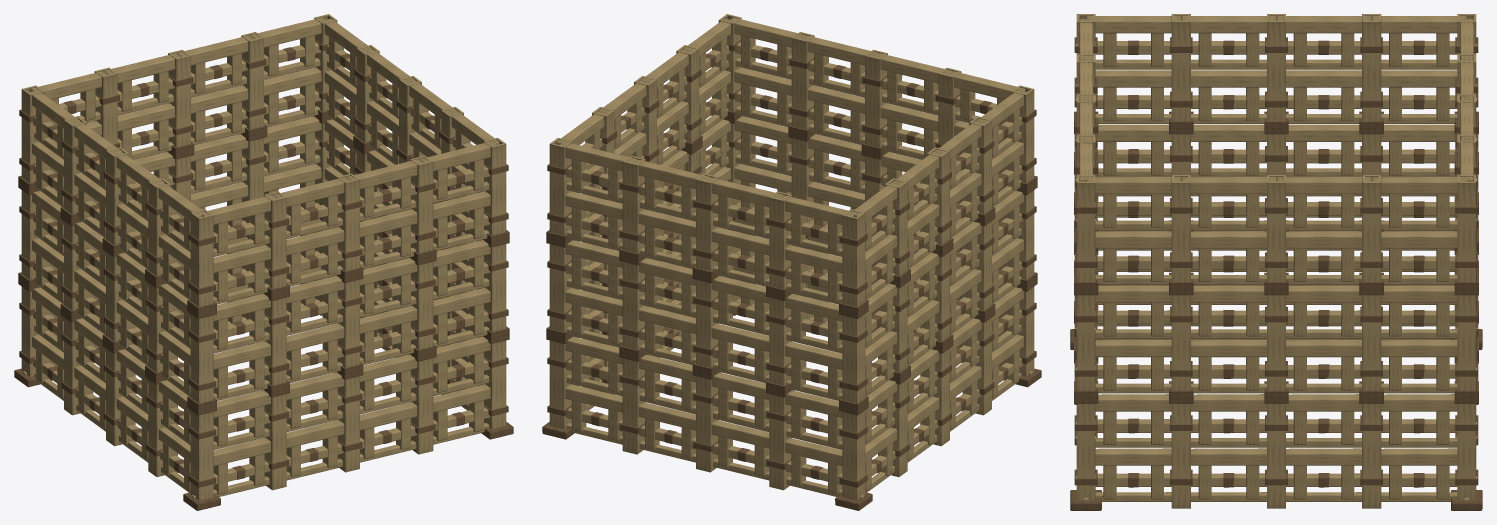
The picture shows the model from 3 angles, left to right: view 1: azimuth 30°, elevation 25°; view 2: azimuth 150°, elevation 25°; view 3: azimuth 270°, elevation 25°; orthographic projection. The views are drawn at different scales.
Visible parts, largest first — view 1: Tier 2 side 0 post 0, Tier 0 side 0 post 0, Tier 1 side 0 post 0, Tier 0 side 0 post 3, Tier 2 side 0 post 3, Tier 2 side 1 post 0, Tier 0 side 0 post 1, Tier 2 side 0 post 1, Tier 0 side 0 post 2, Tier 2 side 0 post 2, Tier 2 side 2 post 2, Tier 2 side 2 post 1 (+74 smaller); view 2: Tier 2 side 3 post 0, Tier 0 side 3 post 0, Tier 1 side 3 post 0, Tier 0 side 2 post 1, Tier 2 side 2 post 1, Tier 2 side 0 post 3, Tier 2 side 2 post 0, Tier 0 side 2 post 3, Tier 2 side 2 post 3, Tier 0 side 2 post 2, Tier 2 side 2 post 2, Tier 2 side 0 post 2 (+73 smaller); view 3: Tier 0 side 1 post 1, Tier 0 side 1 post 3, Tier 2 side 3 post 1, Tier 2 side 3 post 3, Tier 2 side 1 post 1, Tier 2 side 1 post 3, Tier 2 side 1 post 0, Tier 2 side 2 post 0, Tier 0 side 1 post 2, Tier 2 side 1 post 2, Tier 2 side 3 post 2, Tier 0 side 1 post 0 (+179 smaller).
Boxes of the visible parts, bbox=[...] form: Tier 2 side 0 post 0: bbox=[190, 209, 213, 306]; Tier 0 side 0 post 0: bbox=[190, 410, 213, 500]; Tier 1 side 0 post 0: bbox=[190, 314, 213, 403]; Tier 0 side 0 post 3: bbox=[410, 358, 433, 454]; Tier 2 side 0 post 3: bbox=[410, 155, 433, 253]; Tier 2 side 1 post 0: bbox=[483, 138, 506, 235]; Tier 0 side 0 post 1: bbox=[264, 394, 286, 490]; Tier 2 side 0 post 1: bbox=[264, 191, 286, 288]; Tier 0 side 0 post 2: bbox=[337, 376, 359, 472]; Tier 2 side 0 post 2: bbox=[337, 173, 359, 271]; Tier 2 side 2 post 2: bbox=[168, 49, 190, 147]; Tier 2 side 2 post 1: bbox=[241, 32, 263, 129]; Tier 2 side 3 post 0: bbox=[842, 209, 865, 306]; Tier 0 side 3 post 0: bbox=[842, 410, 865, 500]; Tier 1 side 3 post 0: bbox=[842, 314, 865, 403]; Tier 0 side 2 post 1: bbox=[622, 358, 645, 454]; Tier 2 side 2 post 1: bbox=[622, 155, 645, 253]; Tier 2 side 0 post 3: bbox=[791, 32, 814, 129]; Tier 2 side 2 post 0: bbox=[549, 138, 572, 235]; Tier 0 side 2 post 3: bbox=[769, 394, 791, 490]; Tier 2 side 2 post 3: bbox=[769, 191, 791, 288]; Tier 0 side 2 post 2: bbox=[696, 376, 718, 472]; Tier 2 side 2 post 2: bbox=[696, 173, 718, 271]; Tier 2 side 0 post 2: bbox=[865, 49, 887, 147]; Tier 0 side 1 post 1: bbox=[1171, 404, 1190, 508]; Tier 0 side 1 post 3: bbox=[1362, 404, 1381, 508]; Tier 2 side 3 post 1: bbox=[1362, 14, 1381, 121]; Tier 2 side 3 post 3: bbox=[1171, 14, 1190, 121]; Tier 2 side 1 post 1: bbox=[1171, 175, 1190, 281]; Tier 2 side 1 post 3: bbox=[1362, 175, 1381, 281]; Tier 2 side 1 post 0: bbox=[1076, 175, 1095, 281]; Tier 2 side 2 post 0: bbox=[1457, 175, 1476, 281]; Tier 0 side 1 post 2: bbox=[1267, 404, 1285, 508]; Tier 2 side 1 post 2: bbox=[1267, 175, 1285, 281]; Tier 2 side 3 post 2: bbox=[1267, 14, 1285, 121]; Tier 0 side 1 post 0: bbox=[1076, 404, 1095, 500].
Bounding box in the file's own units: 1.95 × 1.7 × 1.95.
Materials: 2 (2 with a texture image).
